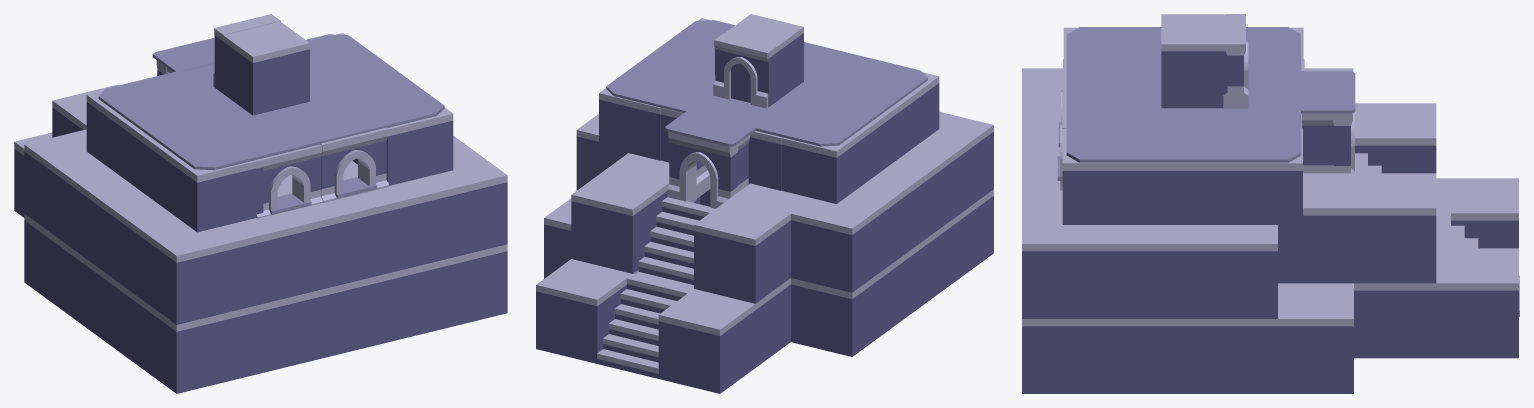
Rendered from ZIGGURAT.glb.
3 views of the same model, side by side, from view 1: azimuth 30°, elevation 25°; view 2: azimuth 150°, elevation 25°; view 3: azimuth 270°, elevation 25° (orthographic). The views are drawn at different scales.
Visible parts, largest first — view 1: mergedBlocks(Clone); view 2: mergedBlocks(Clone); view 3: mergedBlocks(Clone).
Part boxes in pixels (<box>): mergedBlocks(Clone): <box>14,14,507,393</box>; mergedBlocks(Clone): <box>536,14,993,393</box>; mergedBlocks(Clone): <box>1022,14,1519,393</box>.
Size of the model in its own units: 1 by 0.743 by 1.2.
